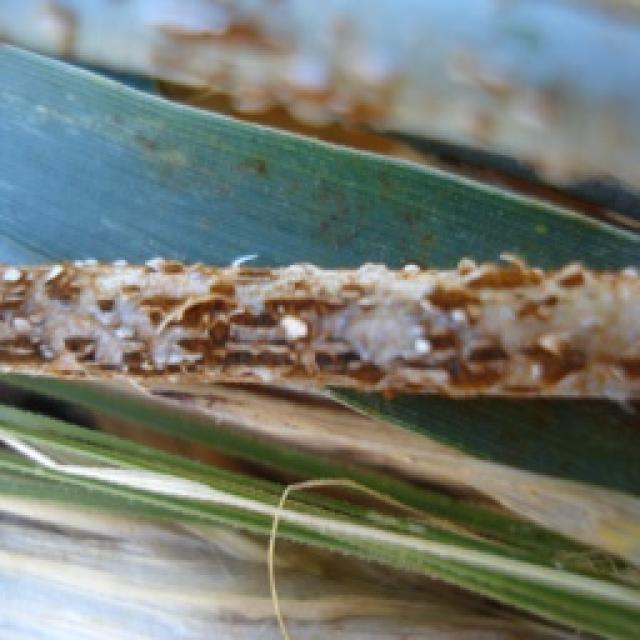Yellow Rust: (0, 248, 638, 410)
